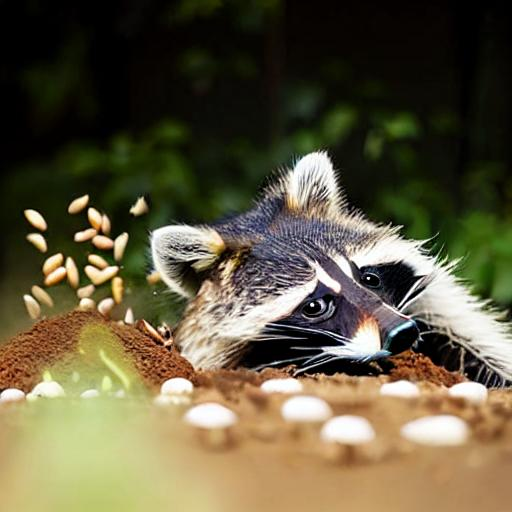raccoon: (141, 140, 512, 374)
